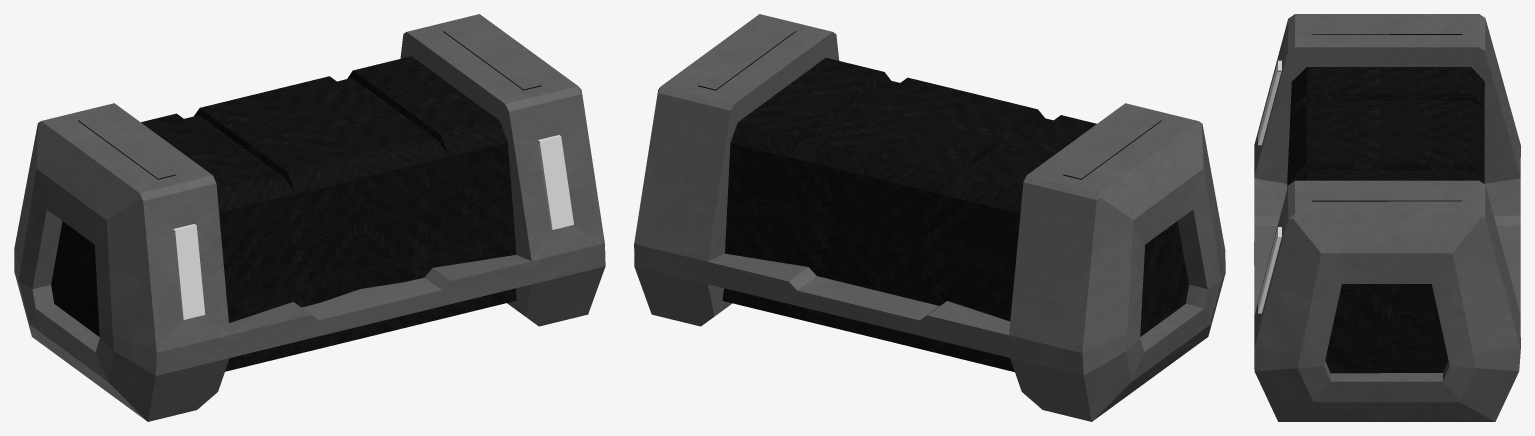
Rendered from LastWar_Box.fbx.
3 renders of one model, left to right at view 1: azimuth 30°, elevation 25°; view 2: azimuth 150°, elevation 25°; view 3: azimuth 270°, elevation 25°, orthographic. The views are drawn at different scales.
Visible parts, largest first — view 1: Cube; view 2: Cube; view 3: Cube.
Part boxes in pixels (<box>): Cube: <box>14,14,605,421</box>; Cube: <box>634,14,1225,421</box>; Cube: <box>1254,14,1520,421</box>.
Bounding box in the file's own units: 514 × 224 × 260.
